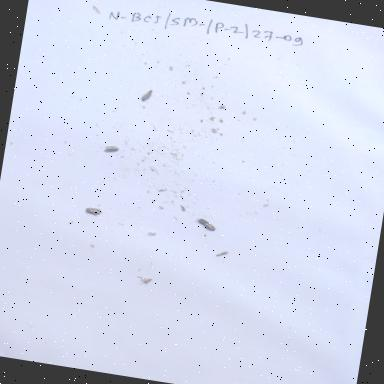pbw: (193, 217, 217, 231), (84, 206, 103, 216), (140, 88, 152, 102), (104, 144, 119, 151), (216, 250, 228, 258)
